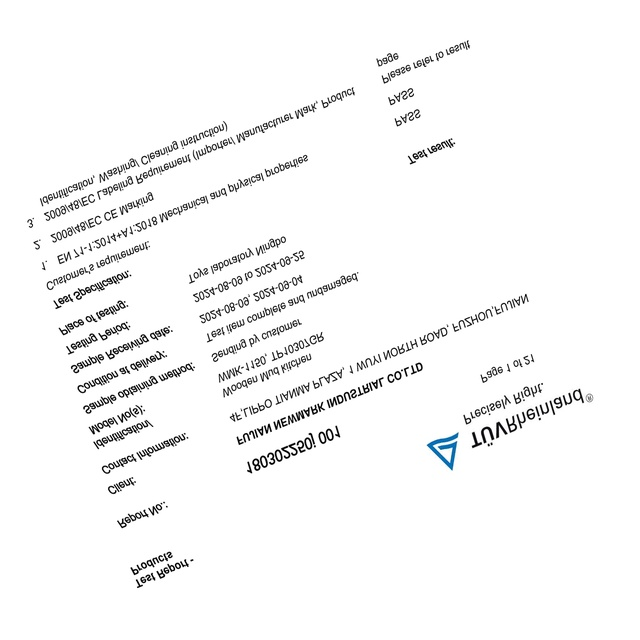tuv_rheinland: (425, 386, 596, 474)
